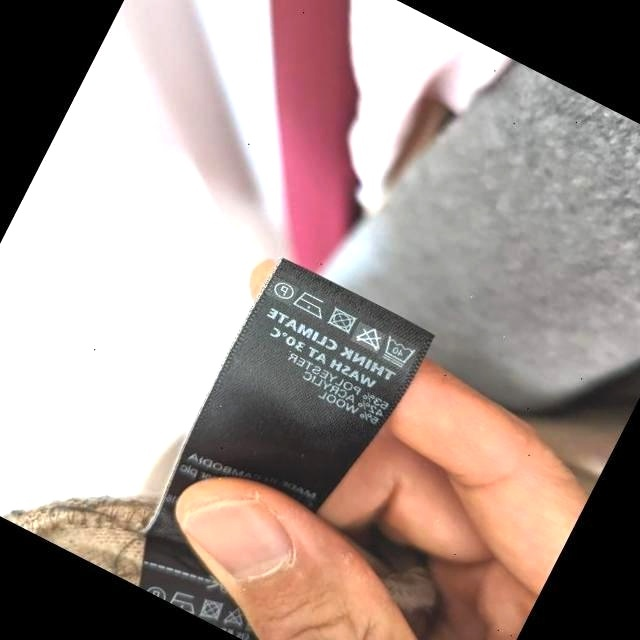40C: (383, 335, 413, 368)
DN_bleach: (354, 325, 380, 352)
DN_tumble_dry: (326, 307, 356, 335)
dry_clean_any_solvent_except_trichloroethylene: (273, 281, 295, 301)
iron_low: (292, 292, 325, 321)
